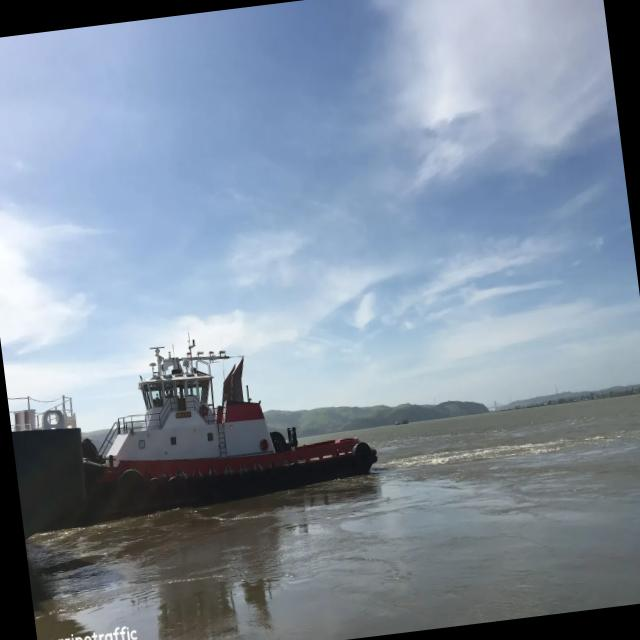Tug: (81, 340, 377, 514)
